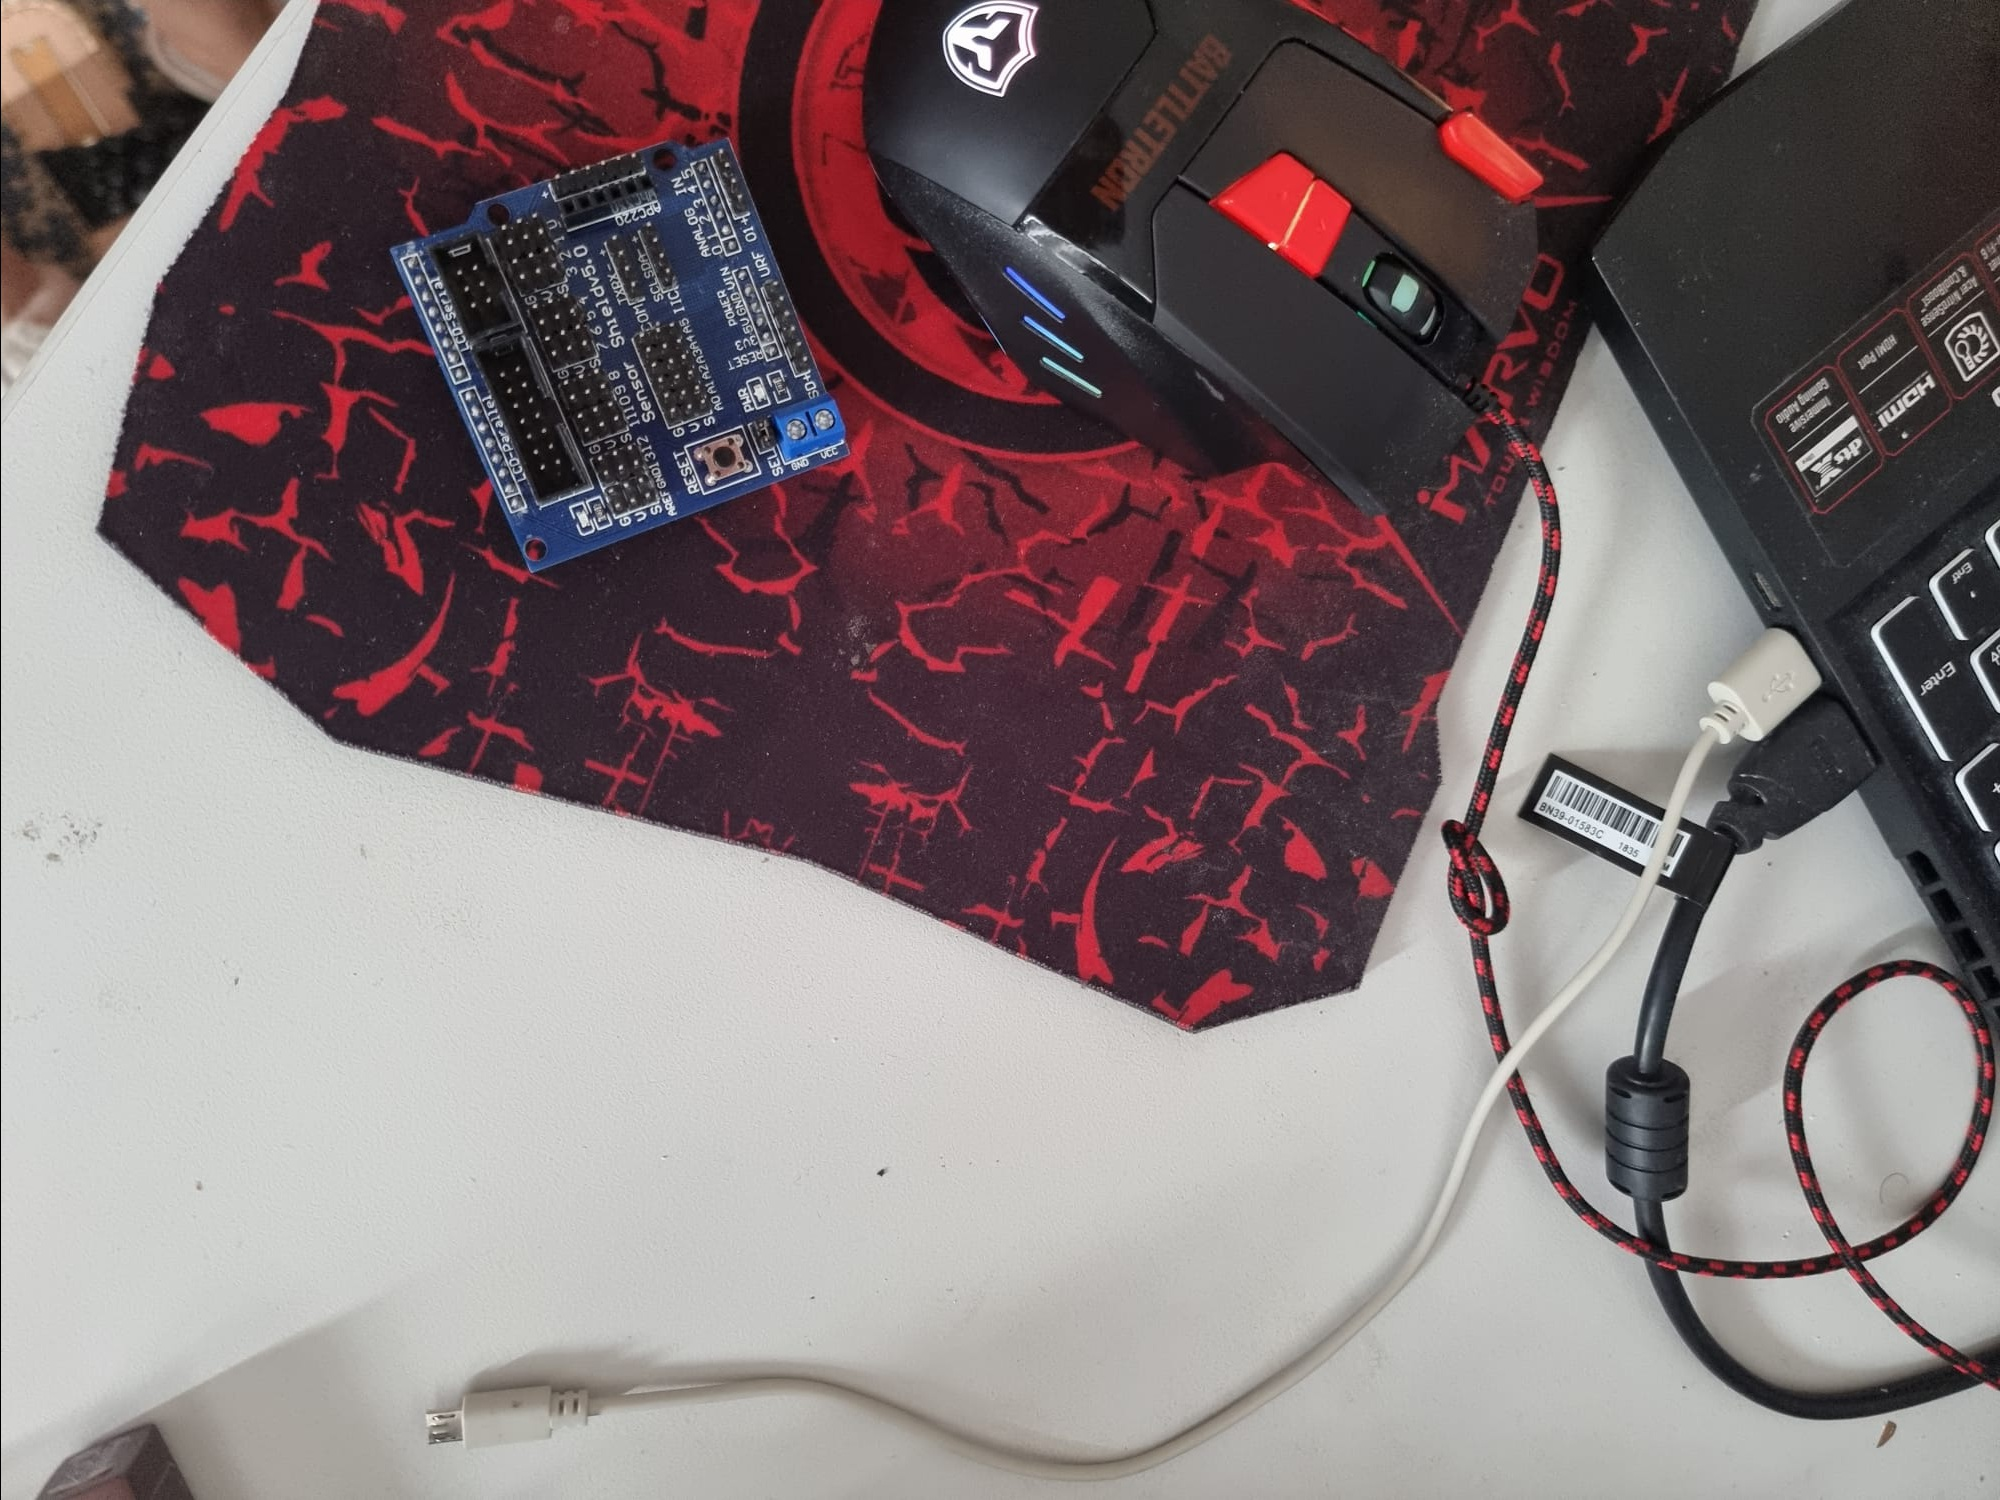5V EXPANSION: (380, 98, 852, 588)
